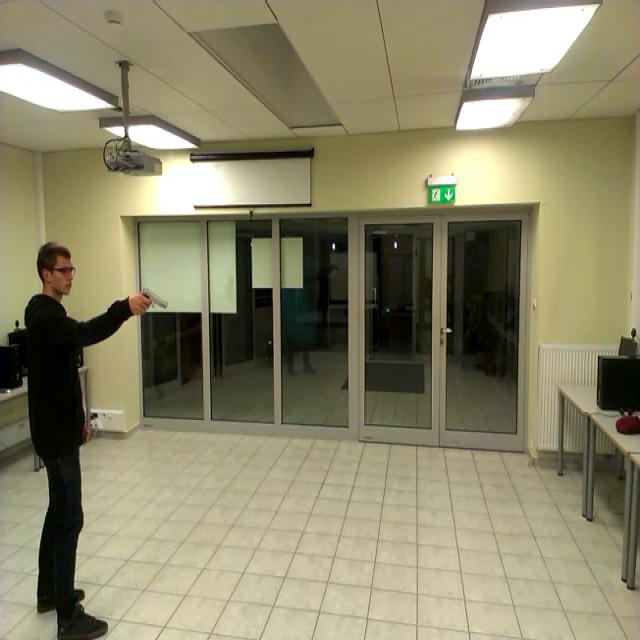handgun: (134, 280, 174, 331)
